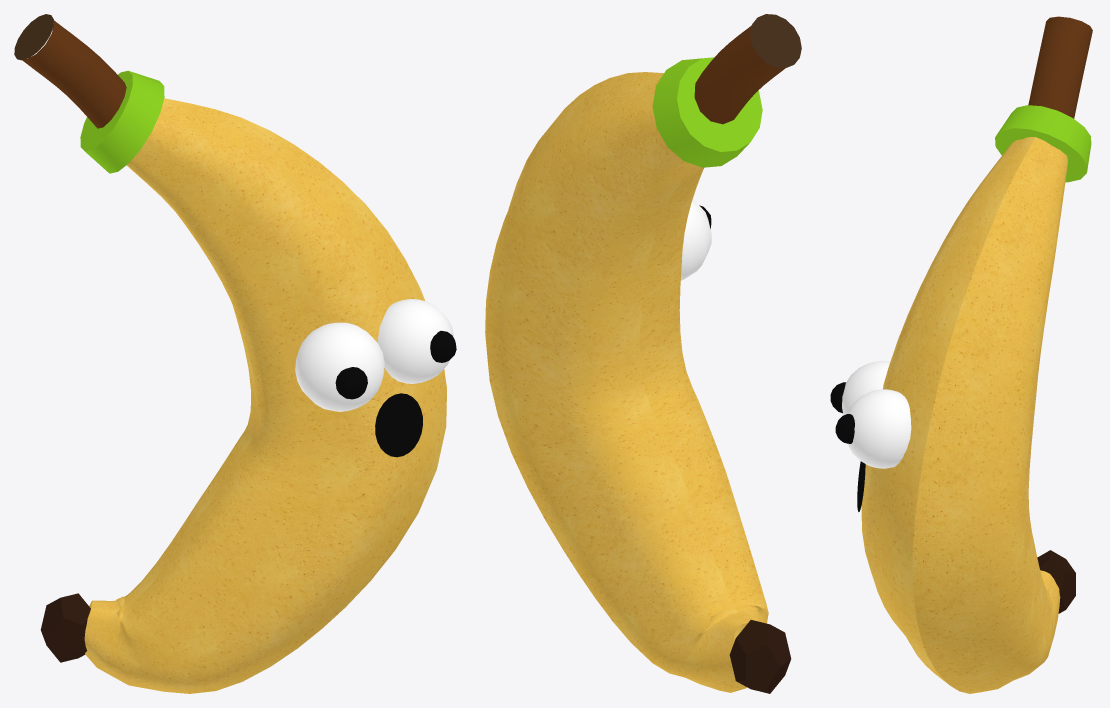
The model's file is lavaonana.glb.
3 views of the same model, side by side, from view 1: azimuth 30°, elevation 25°; view 2: azimuth 150°, elevation 25°; view 3: azimuth 270°, elevation 25° (orthographic). The views are drawn at different scales.
Visible parts, largest first — view 1: banana_Figure; view 2: banana_Figure; view 3: banana_Figure.
Part boxes in pixels (x1=…): banana_Figure: x1=14, y1=14, x2=456, y2=693; banana_Figure: x1=485, y1=14, x2=801, y2=693; banana_Figure: x1=830, y1=16, x2=1092, y2=693.
Bounding box in the file's own units: 0.264 × 0.4878 × 0.1874.
7 materials, 1 textured.
